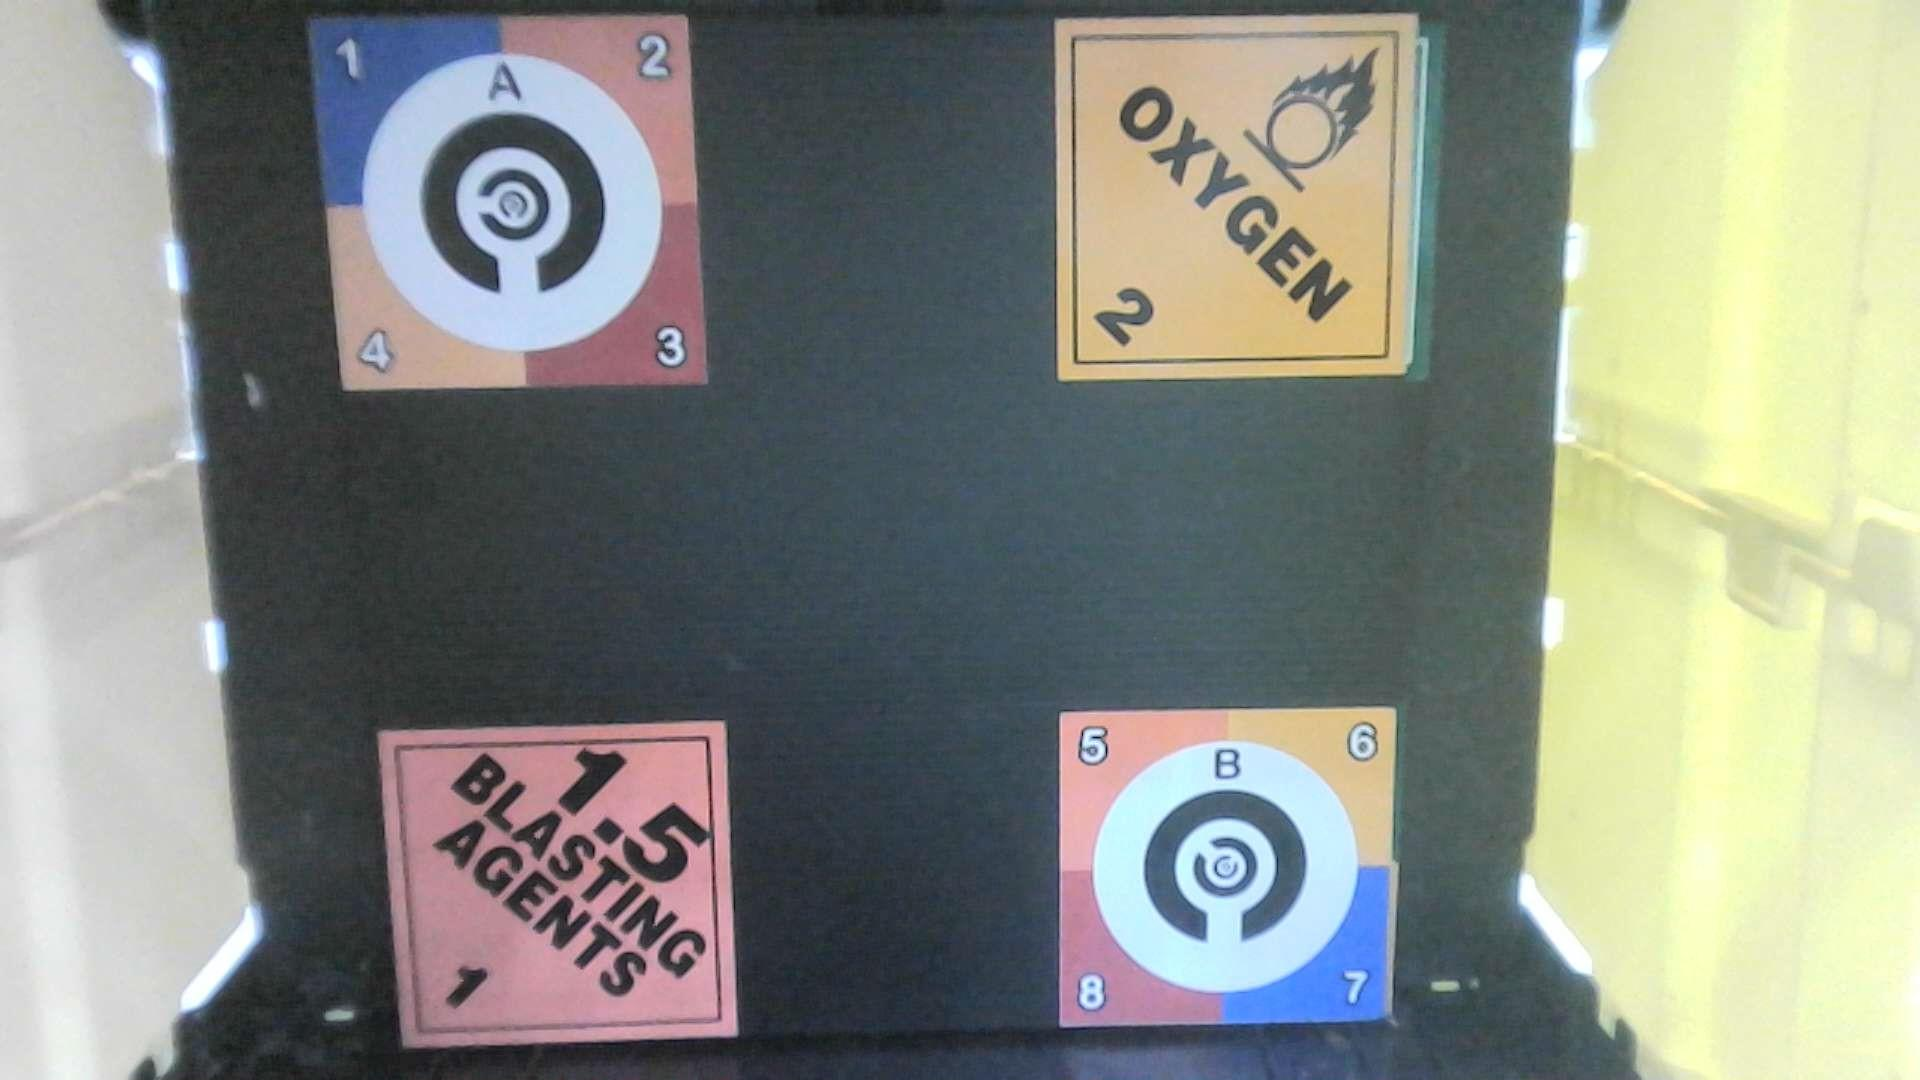explosive: (376, 708, 740, 1054)
oxidizer: (1034, 1, 1443, 396)
